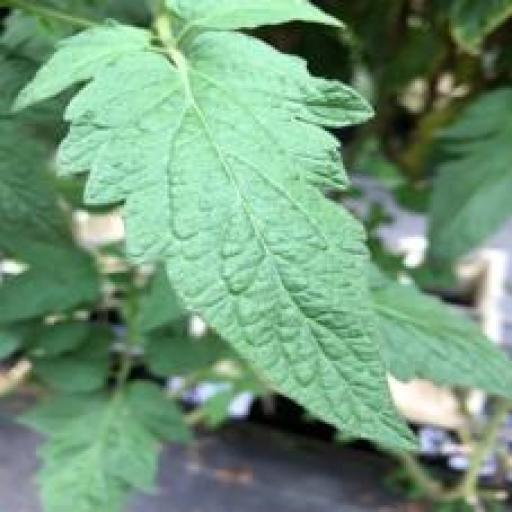Healthy: (54, 29, 426, 458)
